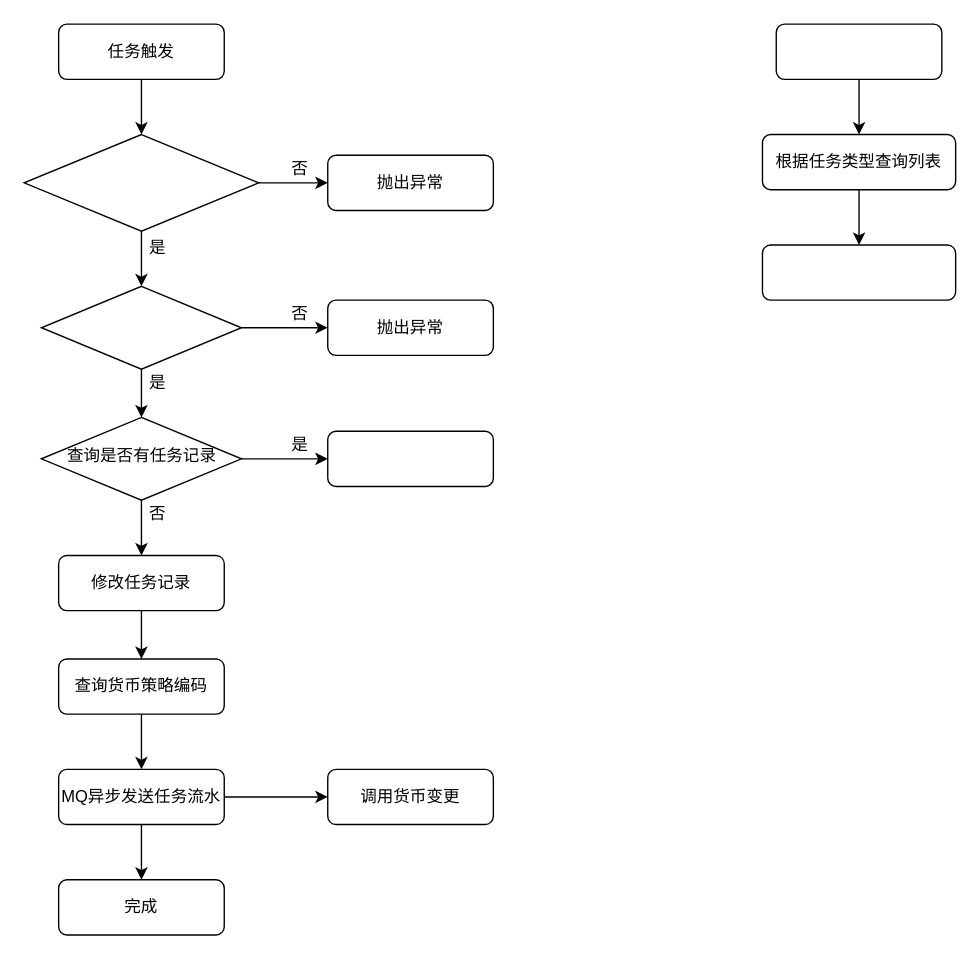
Some shapes in this 980 by 959 pixel diagram are drawn without their labels. Here are the shapes that lost their labels. From the top down, the centre of each, then its label:
point 858,51: 任务查询列表
point 141,182: 校验触点端编码是否存在
point 858,272: 返回任务列表与完成情况
point 140,327: 校验用户 是否存在
point 409,458: 创建任务记录
